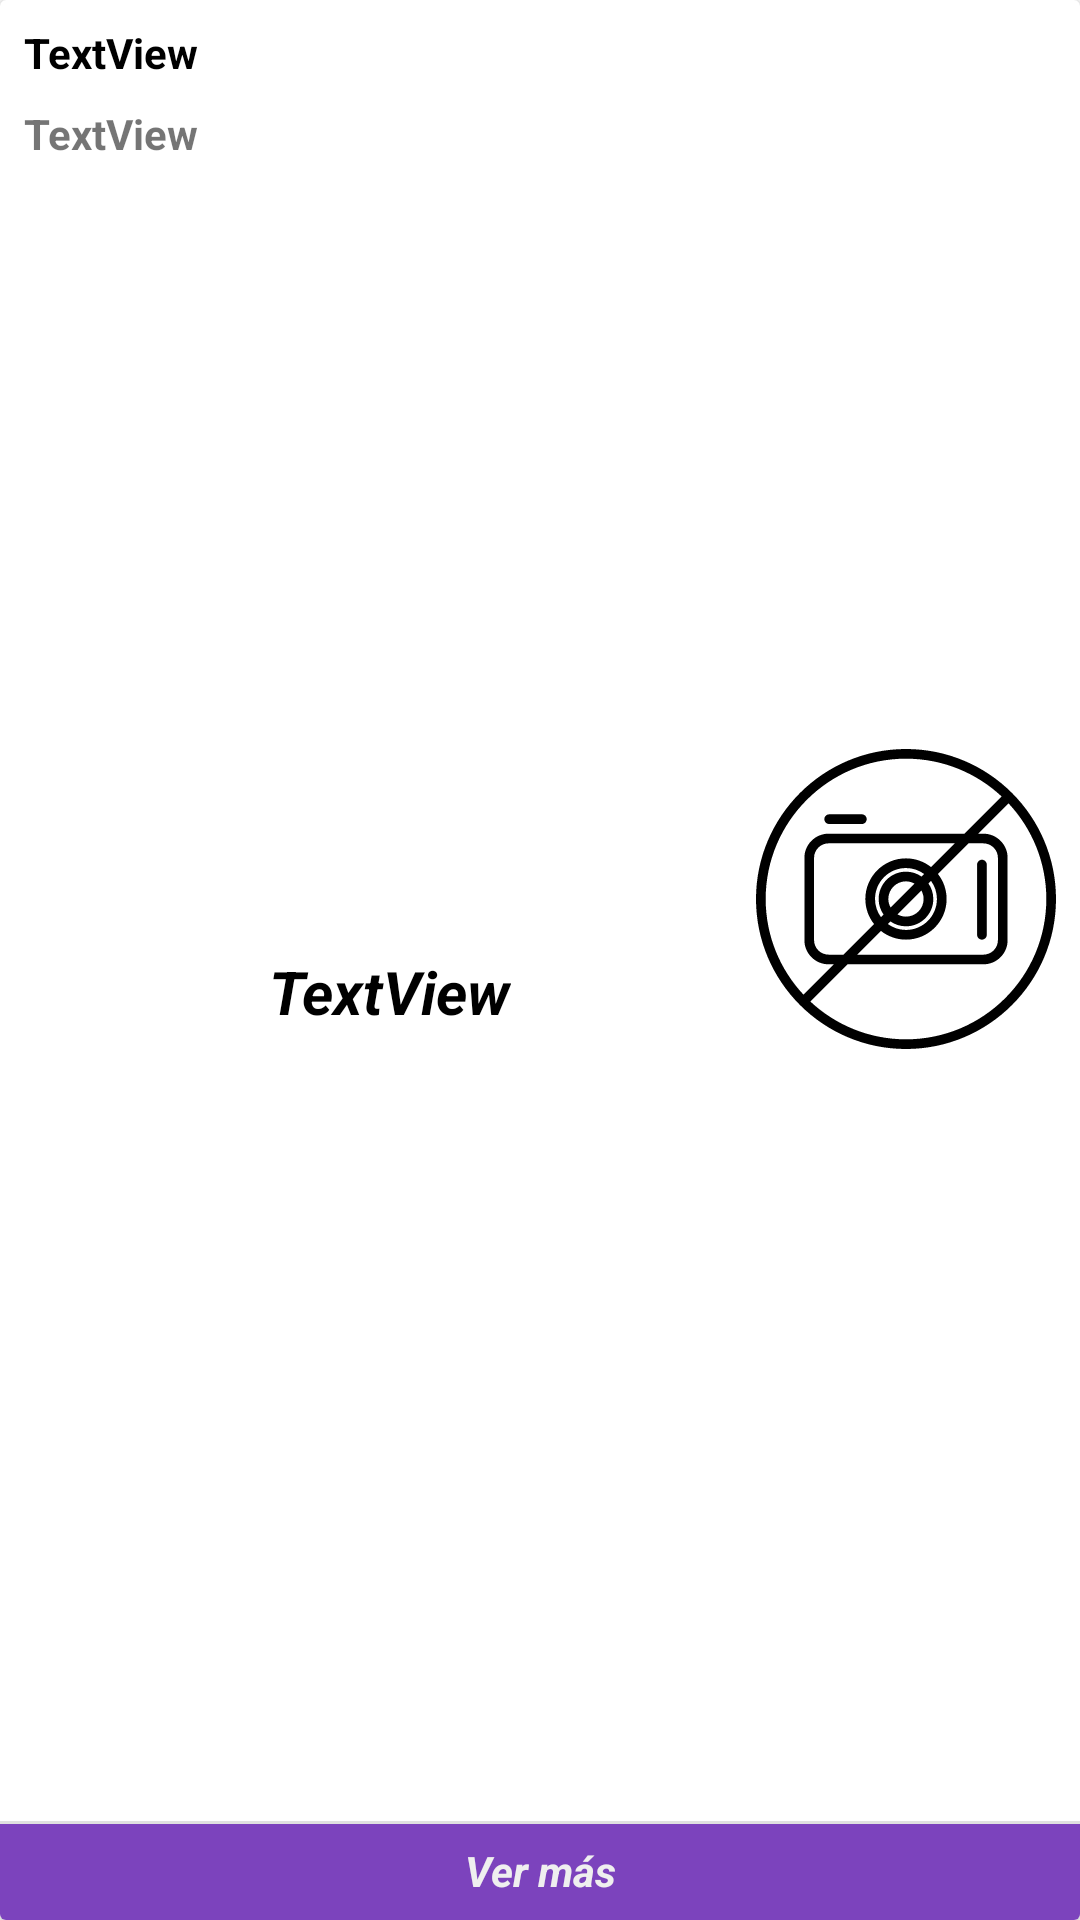

Screen size 1080 x 1920. Icon name, then its center in pixels as (x=x, y=y):
no picture taking allowed: (x=906, y=899)
